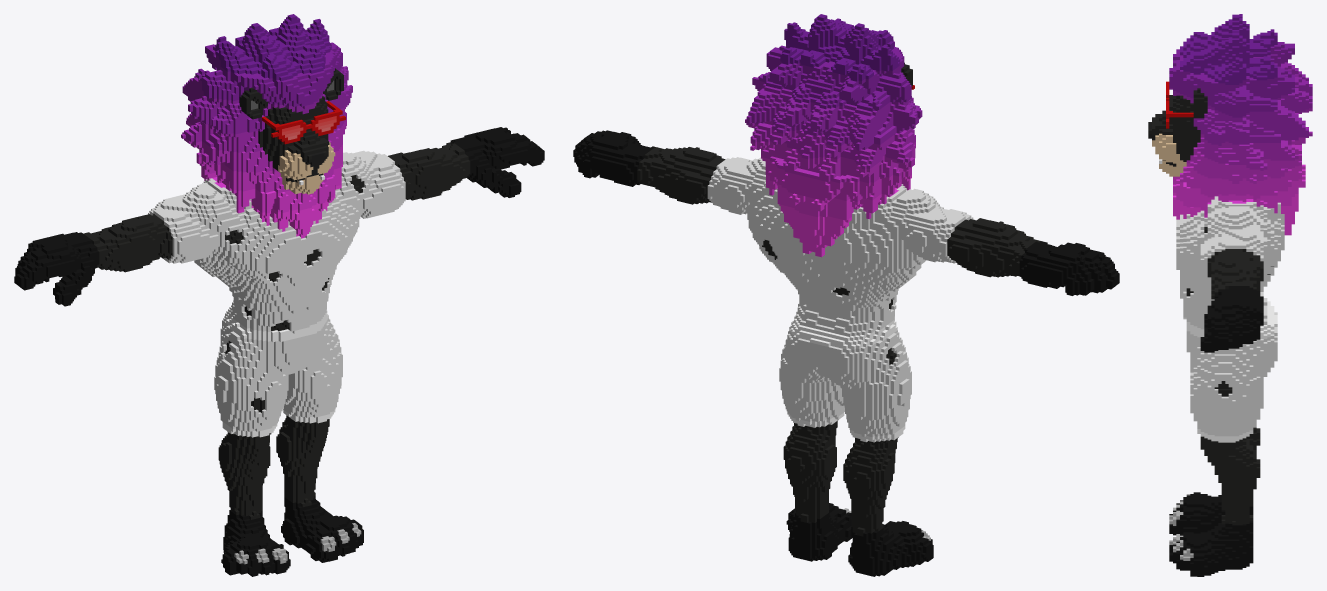
File: 906-b2qemOXN.glb
3 renders of one model, left to right at view 1: azimuth 30°, elevation 25°; view 2: azimuth 150°, elevation 25°; view 3: azimuth 270°, elevation 25°, orthographic. The views are drawn at different scales.
Visible parts, largest first — view 1: standard; view 2: standard; view 3: standard.
Part boxes in pixels (<box>): standard: <box>14,14,544,576</box>; standard: <box>573,14,1119,576</box>; standard: <box>1148,14,1312,576</box>.
Bounding box in the file's own units: 17.2 × 16.5 × 4.7.
Materials: 5 (5 with a texture image).
